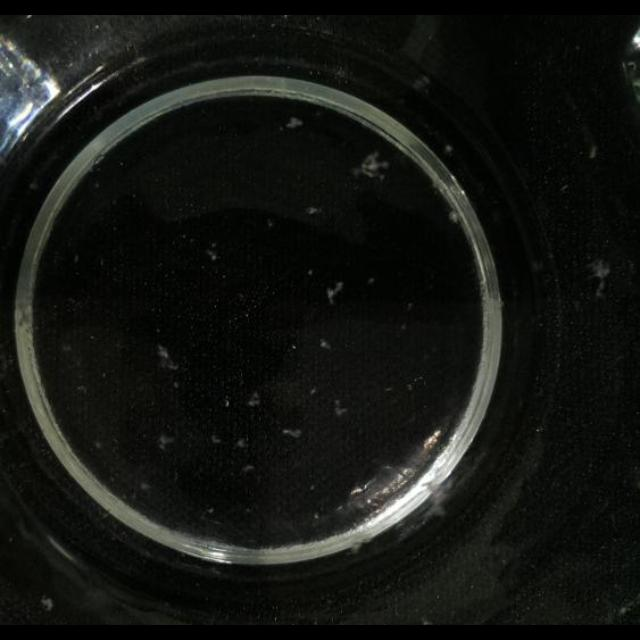Fibre: (357, 150, 391, 180), (588, 258, 612, 296), (156, 344, 180, 370), (326, 281, 344, 305), (333, 398, 349, 418), (158, 434, 176, 451), (204, 243, 220, 260), (246, 391, 262, 407), (285, 118, 303, 130), (282, 428, 302, 438), (448, 210, 460, 224), (320, 339, 332, 351), (305, 207, 321, 216)
microbeads: (40, 598, 52, 612)
